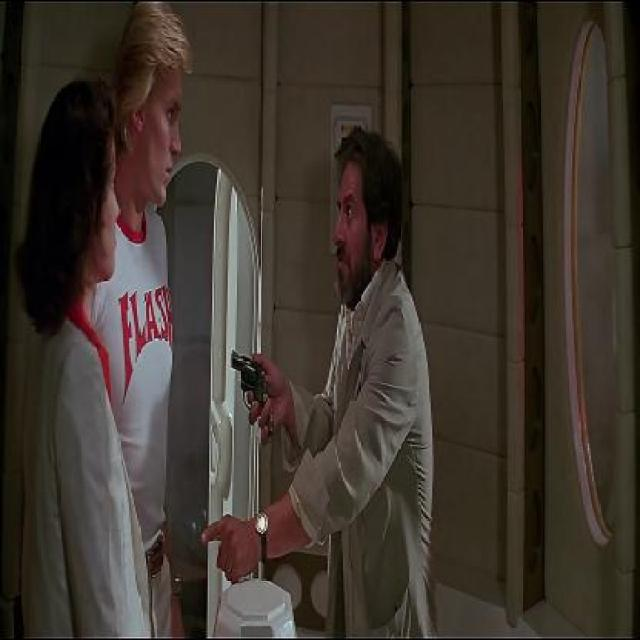guns: (223, 317, 283, 443)
